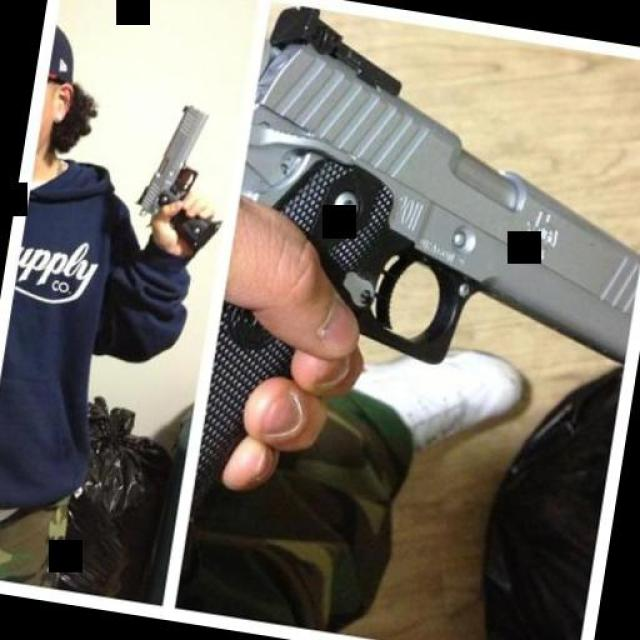gun: (190, 5, 640, 546), (123, 91, 235, 258)
